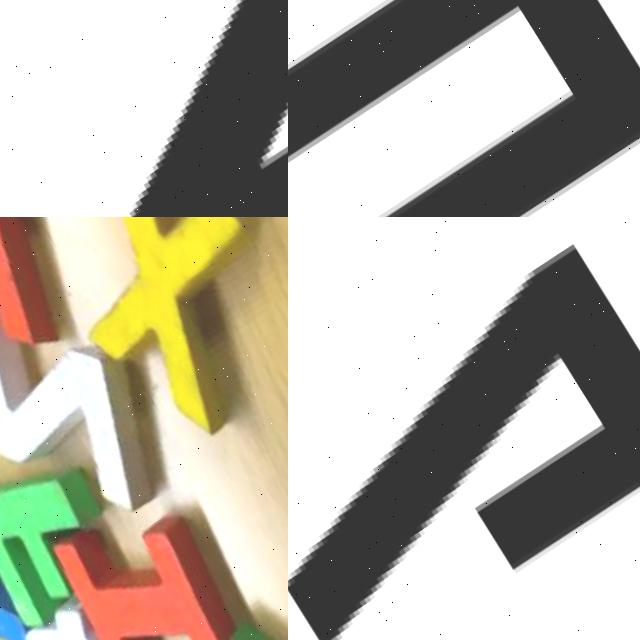F: (0, 431, 134, 640)
I: (42, 473, 280, 640)
Q: (0, 571, 205, 640)
U: (288, 0, 640, 217)
X: (2, 217, 288, 471)
Z: (0, 256, 197, 563)
